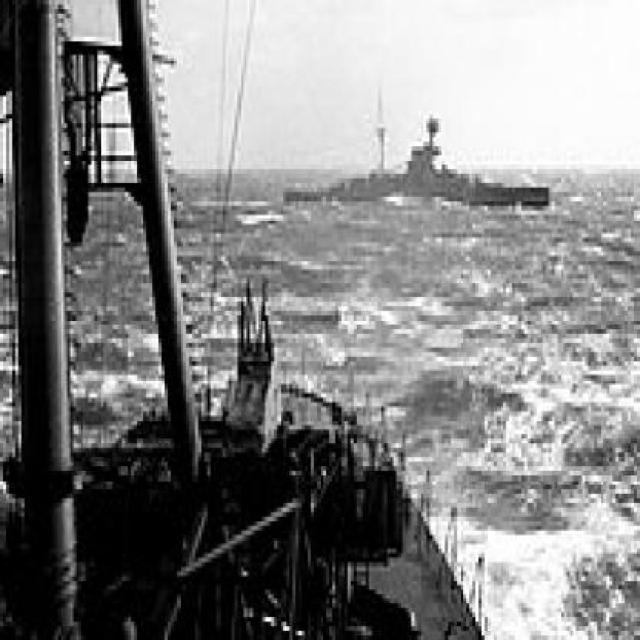warship2: (282, 65, 565, 229)
